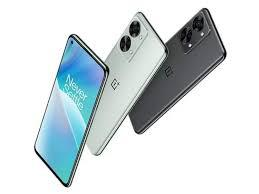Smartphone: (26, 23, 105, 181), (130, 23, 231, 131), (79, 26, 164, 148)
